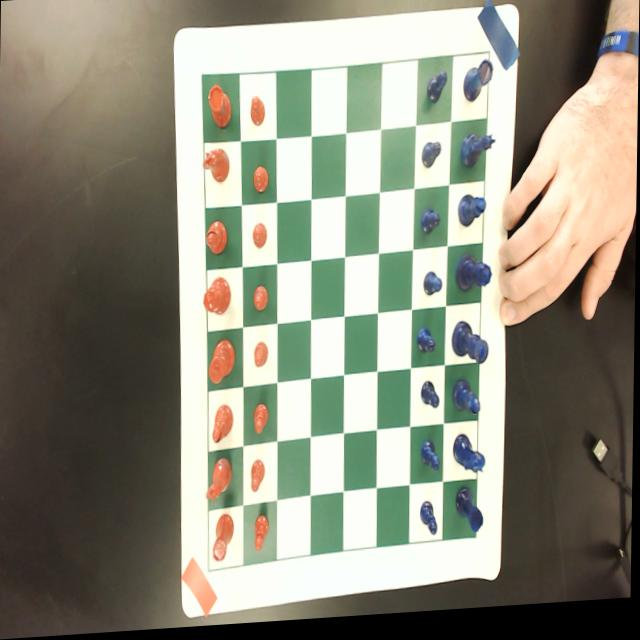B: (453, 384, 481, 421), (457, 199, 486, 234)
K: (452, 324, 489, 372)
N: (453, 439, 487, 482), (460, 136, 498, 174)
P: (425, 74, 448, 109), (420, 443, 441, 478), (420, 506, 439, 543), (420, 213, 441, 242), (421, 146, 441, 175), (417, 331, 437, 360), (420, 386, 440, 415), (423, 276, 443, 302)
Q: (456, 258, 493, 298)
R: (462, 64, 494, 111), (456, 490, 485, 539)
b: (213, 404, 234, 448), (206, 219, 228, 260)
k: (209, 341, 236, 387)
n: (205, 458, 235, 507), (202, 150, 230, 187)
p: (254, 517, 270, 555), (251, 462, 267, 497), (254, 405, 269, 439), (252, 167, 268, 198), (250, 98, 265, 130), (253, 287, 268, 316), (252, 225, 267, 254), (254, 344, 268, 371)
q: (203, 279, 231, 319)
r: (206, 84, 232, 134), (213, 515, 235, 566)
